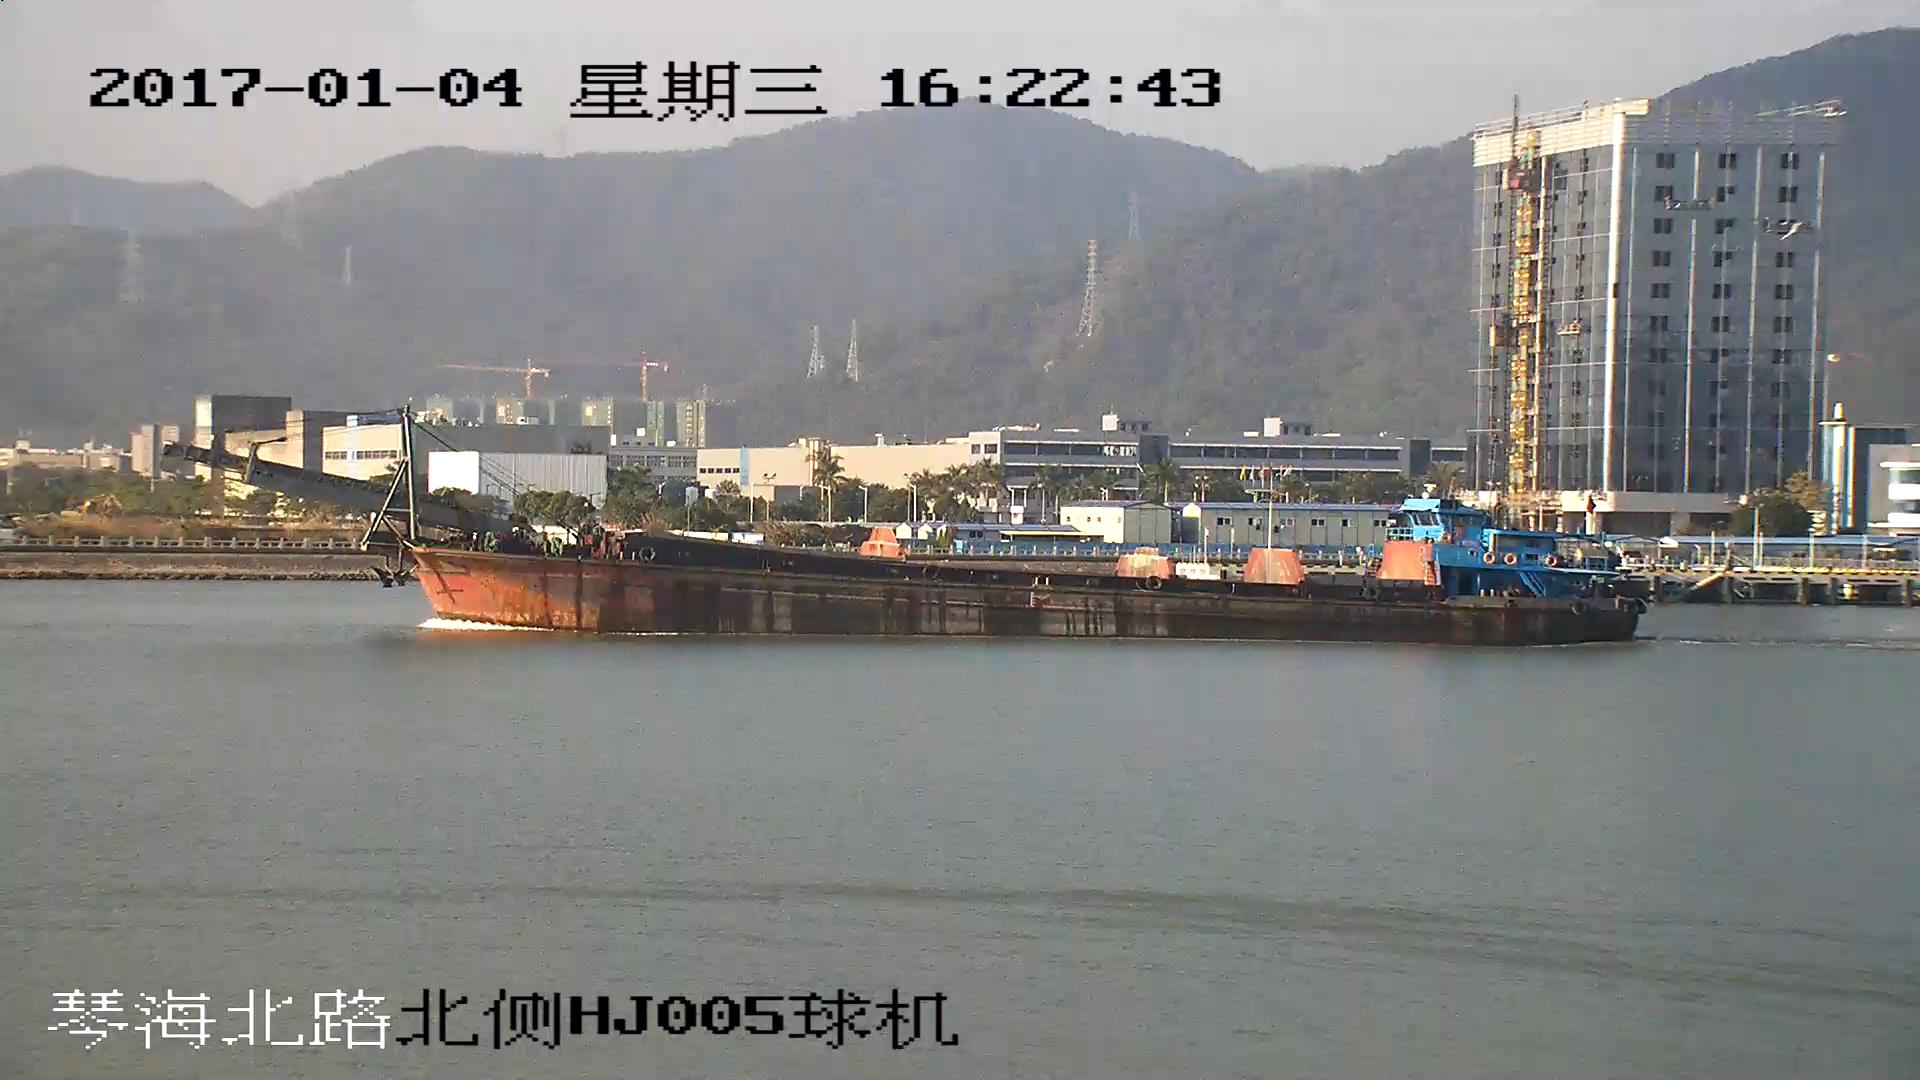bulk cargo carrier: (181, 398, 1641, 643)
